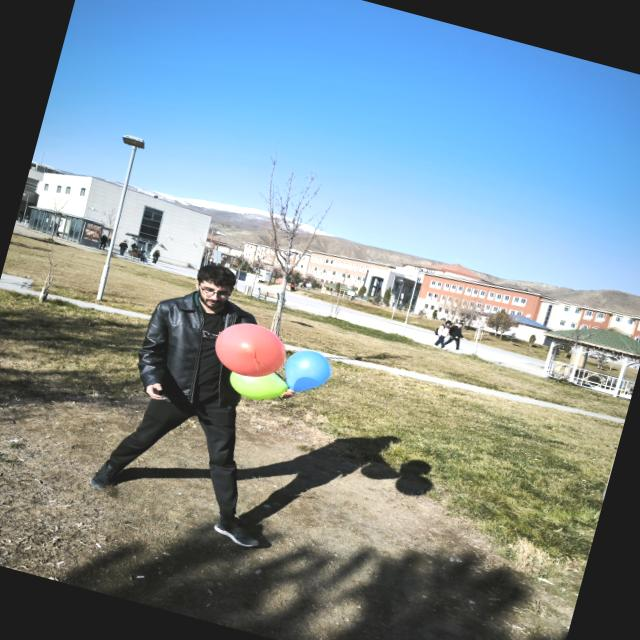balloon: (215, 323, 285, 376), (285, 350, 330, 392), (230, 372, 289, 399)
